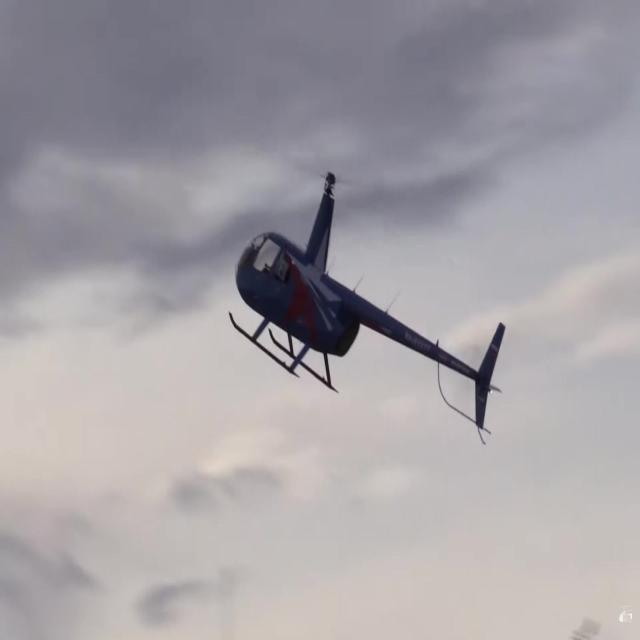CIV_HELO: (228, 170, 507, 436)
